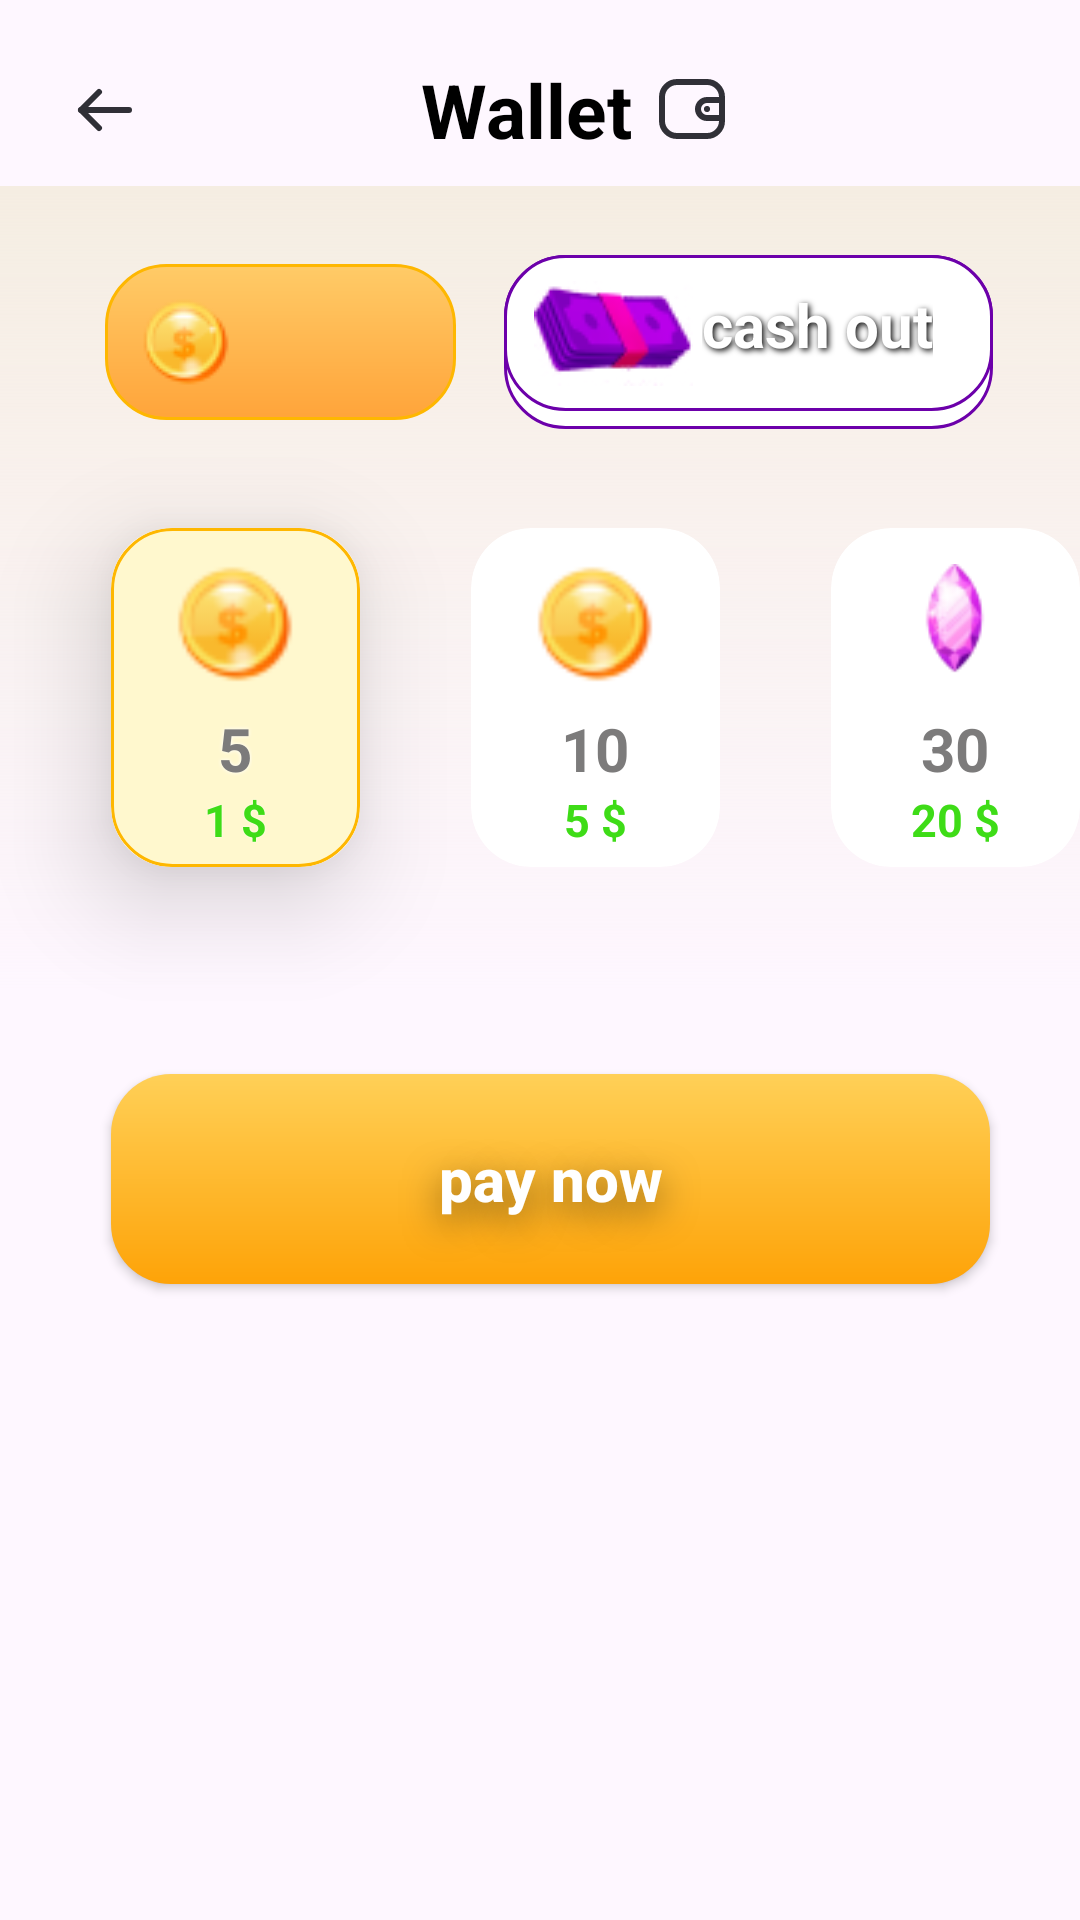

Icons on this 1080px×1920px Android screen, each with its box as (x1, y1, x2, y2):
back: (78, 89, 132, 131)
coin: (141, 297, 231, 383), (178, 567, 292, 681), (538, 567, 652, 681)
diamond: (926, 564, 984, 672)
money: (534, 286, 691, 372)
